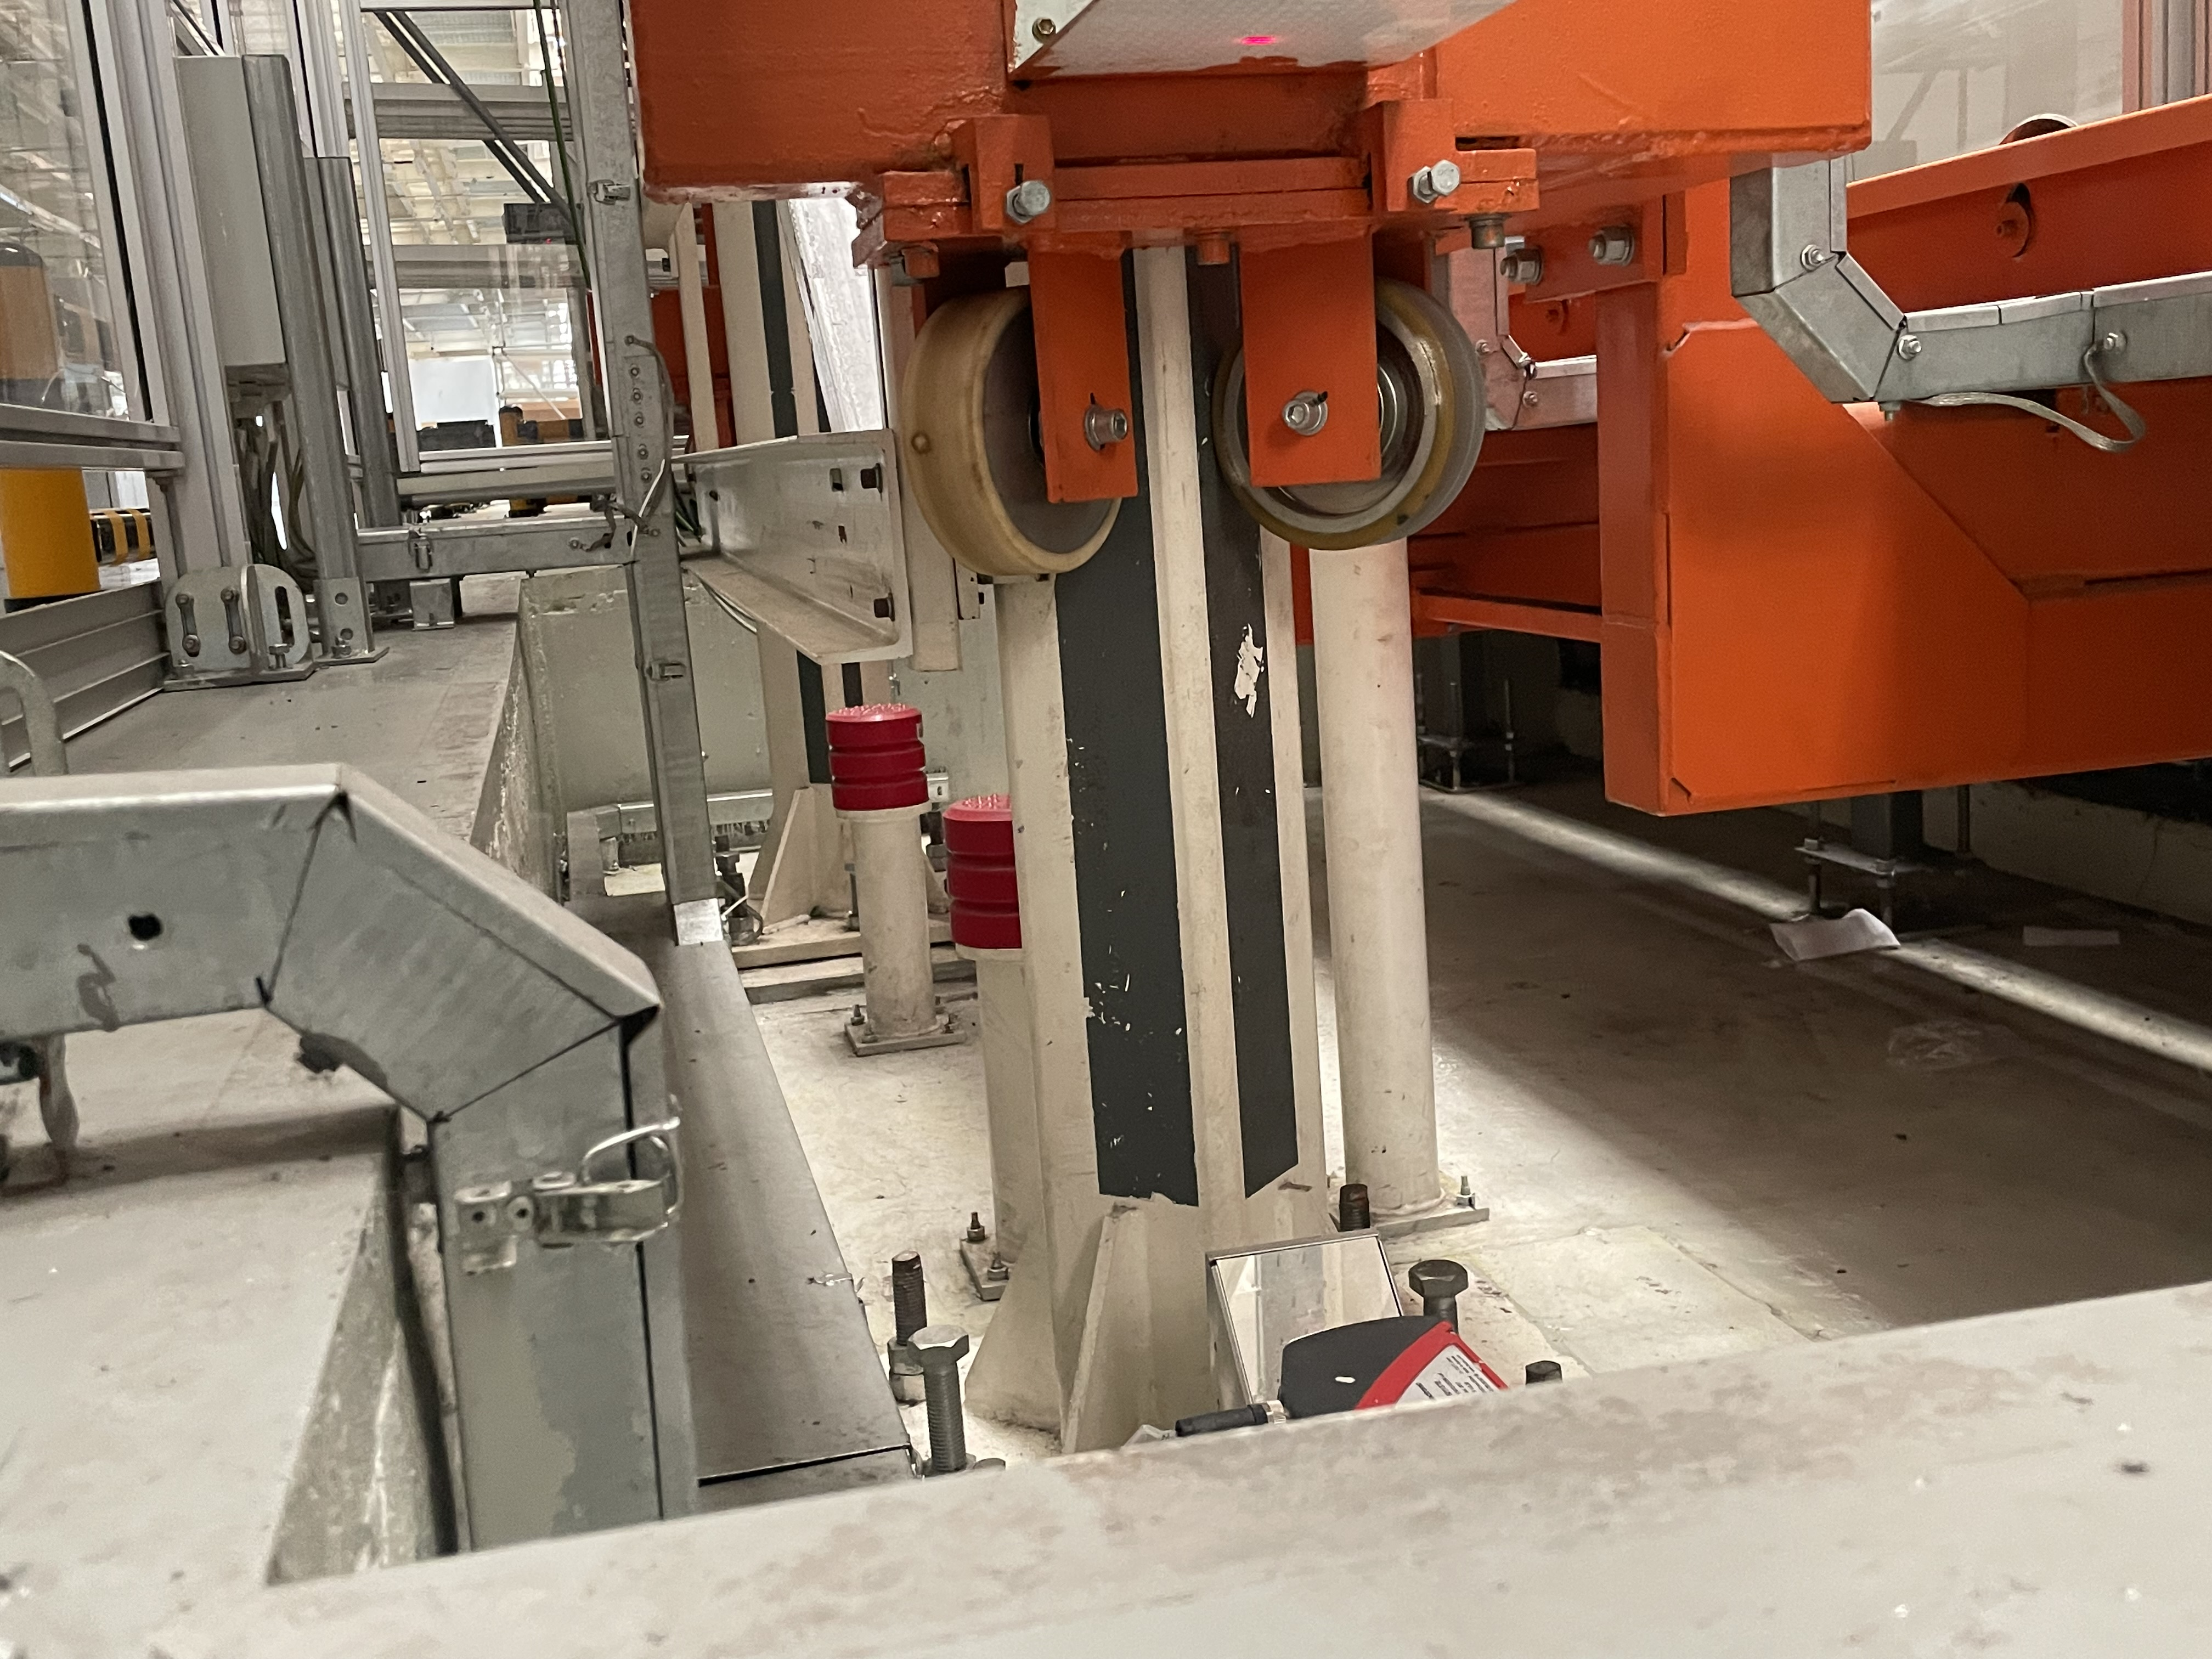bad_wheel: (1399, 333, 1475, 451)
good_wheel: (892, 279, 1162, 587)
